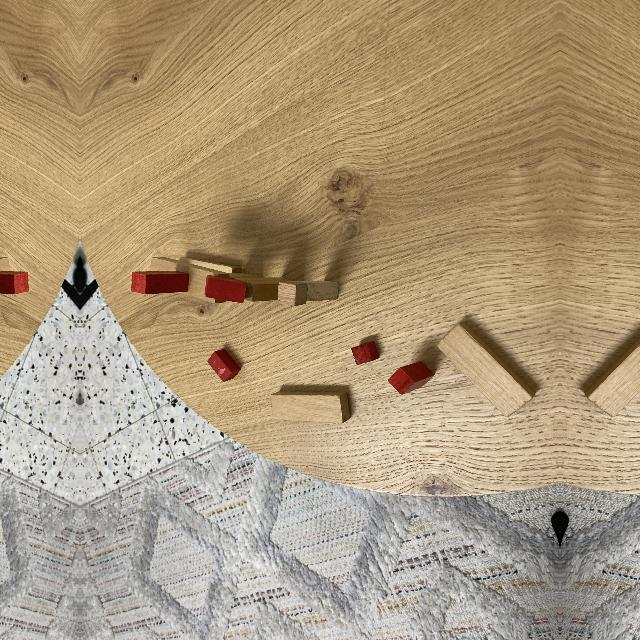cube: (277, 280, 308, 307)
jenga: (436, 321, 535, 417), (585, 337, 640, 417), (151, 257, 230, 303), (271, 391, 349, 423)
red block: (388, 361, 434, 395), (131, 271, 189, 295), (204, 275, 247, 304), (207, 348, 240, 382), (0, 271, 29, 295)
red cube: (351, 341, 379, 365)
